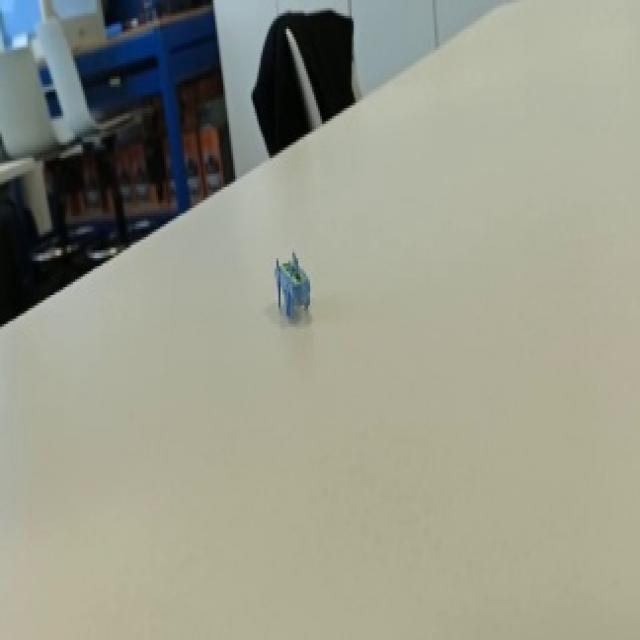3_NanoBug_Celeste: (234, 228, 344, 338)
